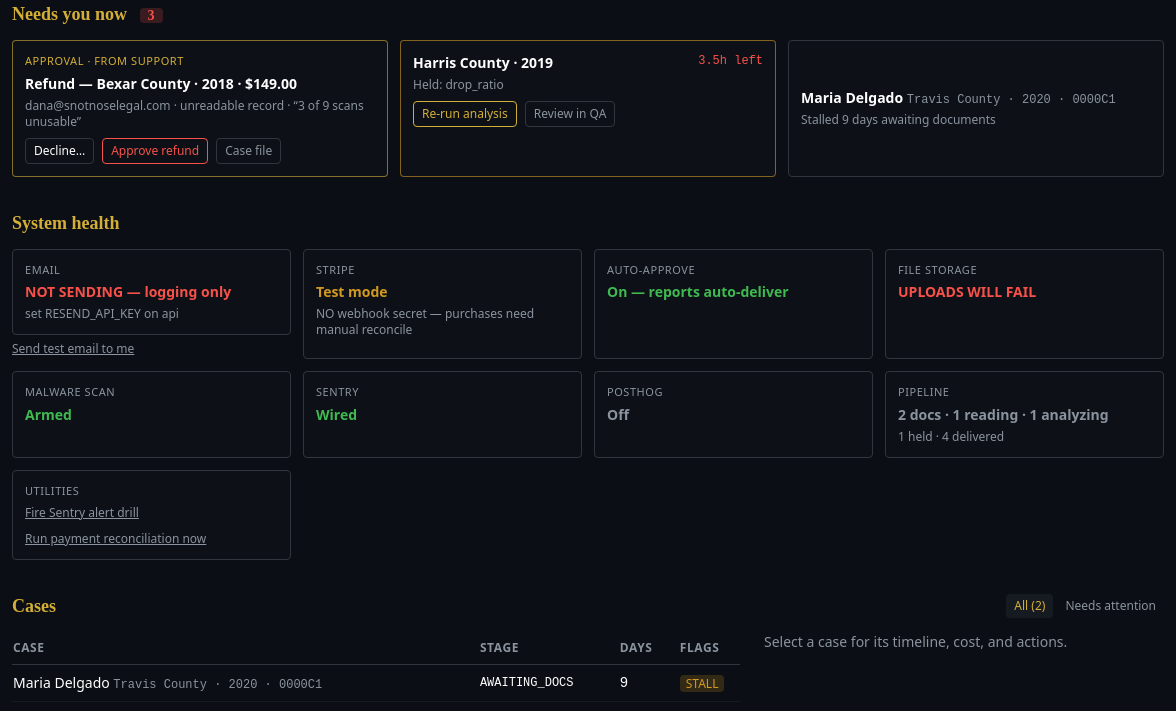
ops overview › an Admin sees a support request as an approval card; declining needs a reason, approving posts the decision
Later steps or results of the test are not shown.
Expected: the element with test id "approval-q_1" shows "Refund — Bexar County · 2018 · $149.00", [12, 40, 388, 176]
Expected: the element with test id "approval-q_1" shows "dana@snotnoselegal.com · unreadable record", [12, 40, 388, 176]
What coordinates should you click on to do the following:
click the button "Decline…"
I would click on:
 (60, 150)
Its box is [25, 138, 94, 164].
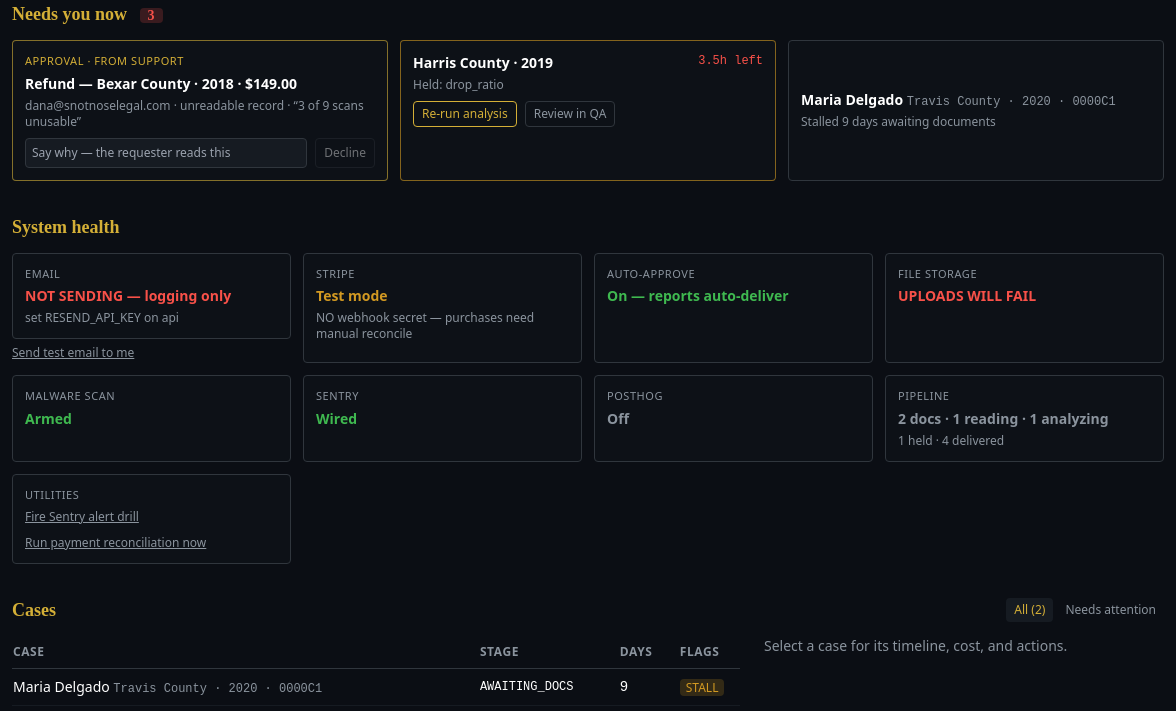
Expected: the button "Decline" is disabled, [315, 138, 375, 168]
